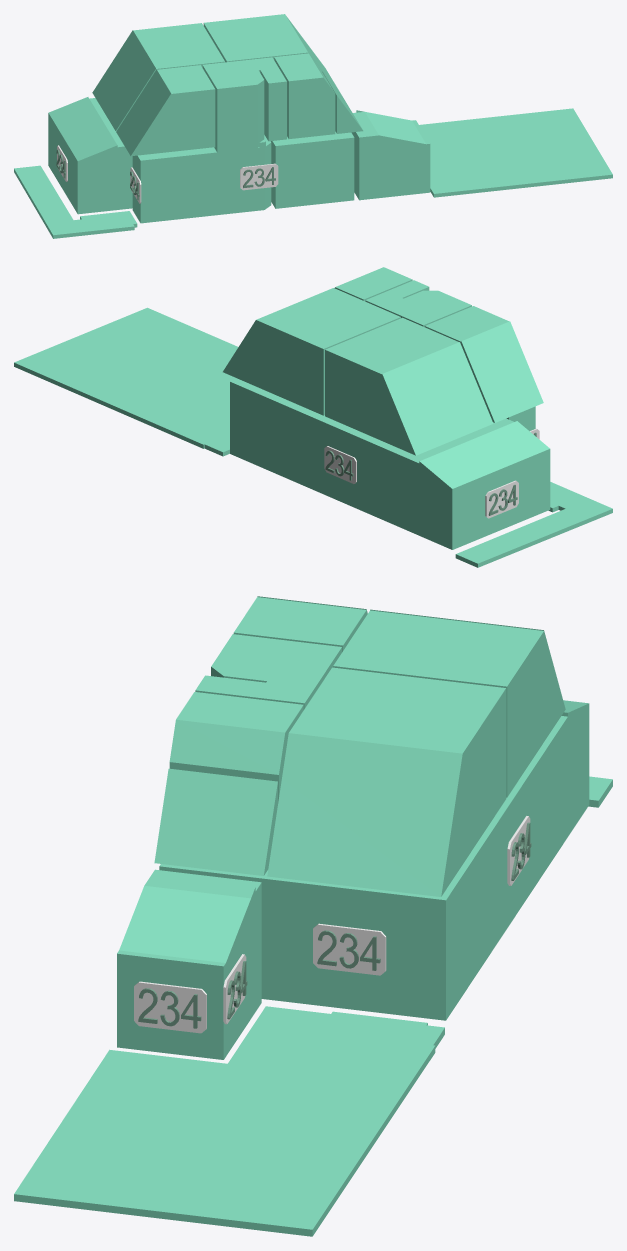
The picture shows the model from 3 angles, top to bottom: view 1: azimuth 30°, elevation 25°; view 2: azimuth 150°, elevation 25°; view 3: azimuth 270°, elevation 25°; orthographic projection. The views are drawn at different scales.
Parts seen in each view (by area): view 1: g_13, g_1, g_9, g_8, g_5, g_0, g_4, g_7, g_6, g_11, g_2, g_10 (+4 smaller); view 2: g_1, g_13, g_8, g_7, g_9, g_0, g_14, g_10, g_6, g_15, g_11, g_39 (+1 smaller); view 3: g_13, g_7, g_0, g_5, g_8, g_1, g_12, g_6, g_10, g_9, g_35, g_31 (+1 smaller).
Boxes of the visible parts, x1,y1,x2,y2 form: g_13: [419, 108, 612, 197]; g_1: [48, 97, 132, 214]; g_9: [116, 65, 215, 156]; g_8: [92, 23, 224, 131]; g_5: [351, 110, 430, 200]; g_0: [271, 131, 354, 208]; g_4: [132, 147, 214, 223]; g_7: [203, 14, 347, 104]; g_6: [274, 53, 335, 138]; g_11: [211, 70, 264, 147]; g_2: [212, 135, 271, 215]; g_10: [202, 57, 286, 141]; g_1: [296, 407, 550, 549]; g_13: [14, 307, 238, 456]; g_8: [325, 317, 493, 455]; g_7: [223, 288, 400, 415]; g_9: [424, 306, 543, 422]; g_0: [230, 378, 303, 482]; g_14: [455, 509, 588, 567]; g_10: [365, 280, 452, 326]; g_6: [334, 267, 412, 301]; g_15: [548, 482, 612, 522]; g_11: [404, 290, 471, 314]; g_39: [485, 480, 518, 518]; g_13: [14, 1006, 444, 1236]; g_7: [267, 667, 506, 896]; g_0: [159, 835, 488, 1020]; g_5: [117, 869, 261, 1059]; g_8: [333, 609, 565, 797]; g_1: [482, 700, 589, 955]; g_12: [154, 768, 277, 875]; g_6: [169, 692, 303, 803]; g_10: [195, 639, 341, 709]; g_9: [233, 596, 367, 652]; g_35: [313, 923, 386, 975]; g_31: [134, 981, 206, 1033].
Bounding box in the file's own units: 22.33 × 5.36 × 11.61.
